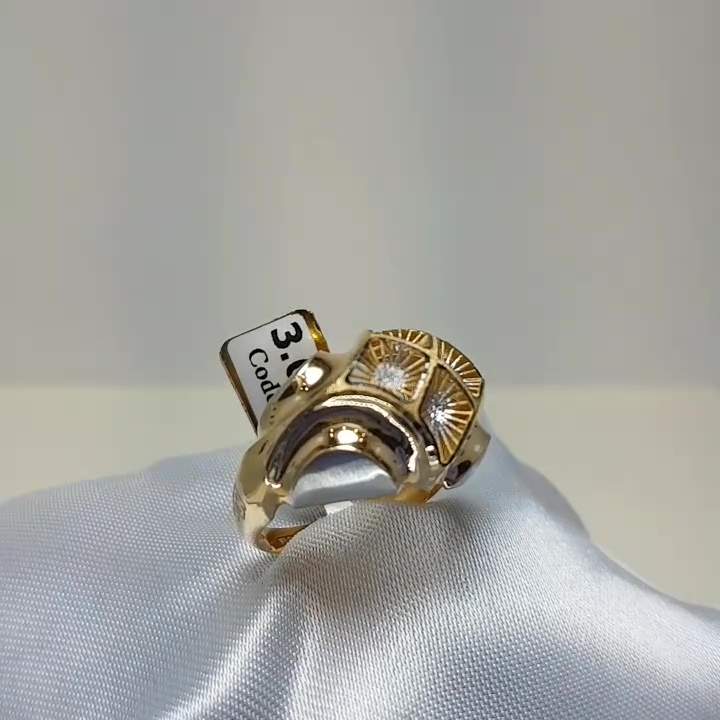Ring 2: (207, 312, 508, 574)
